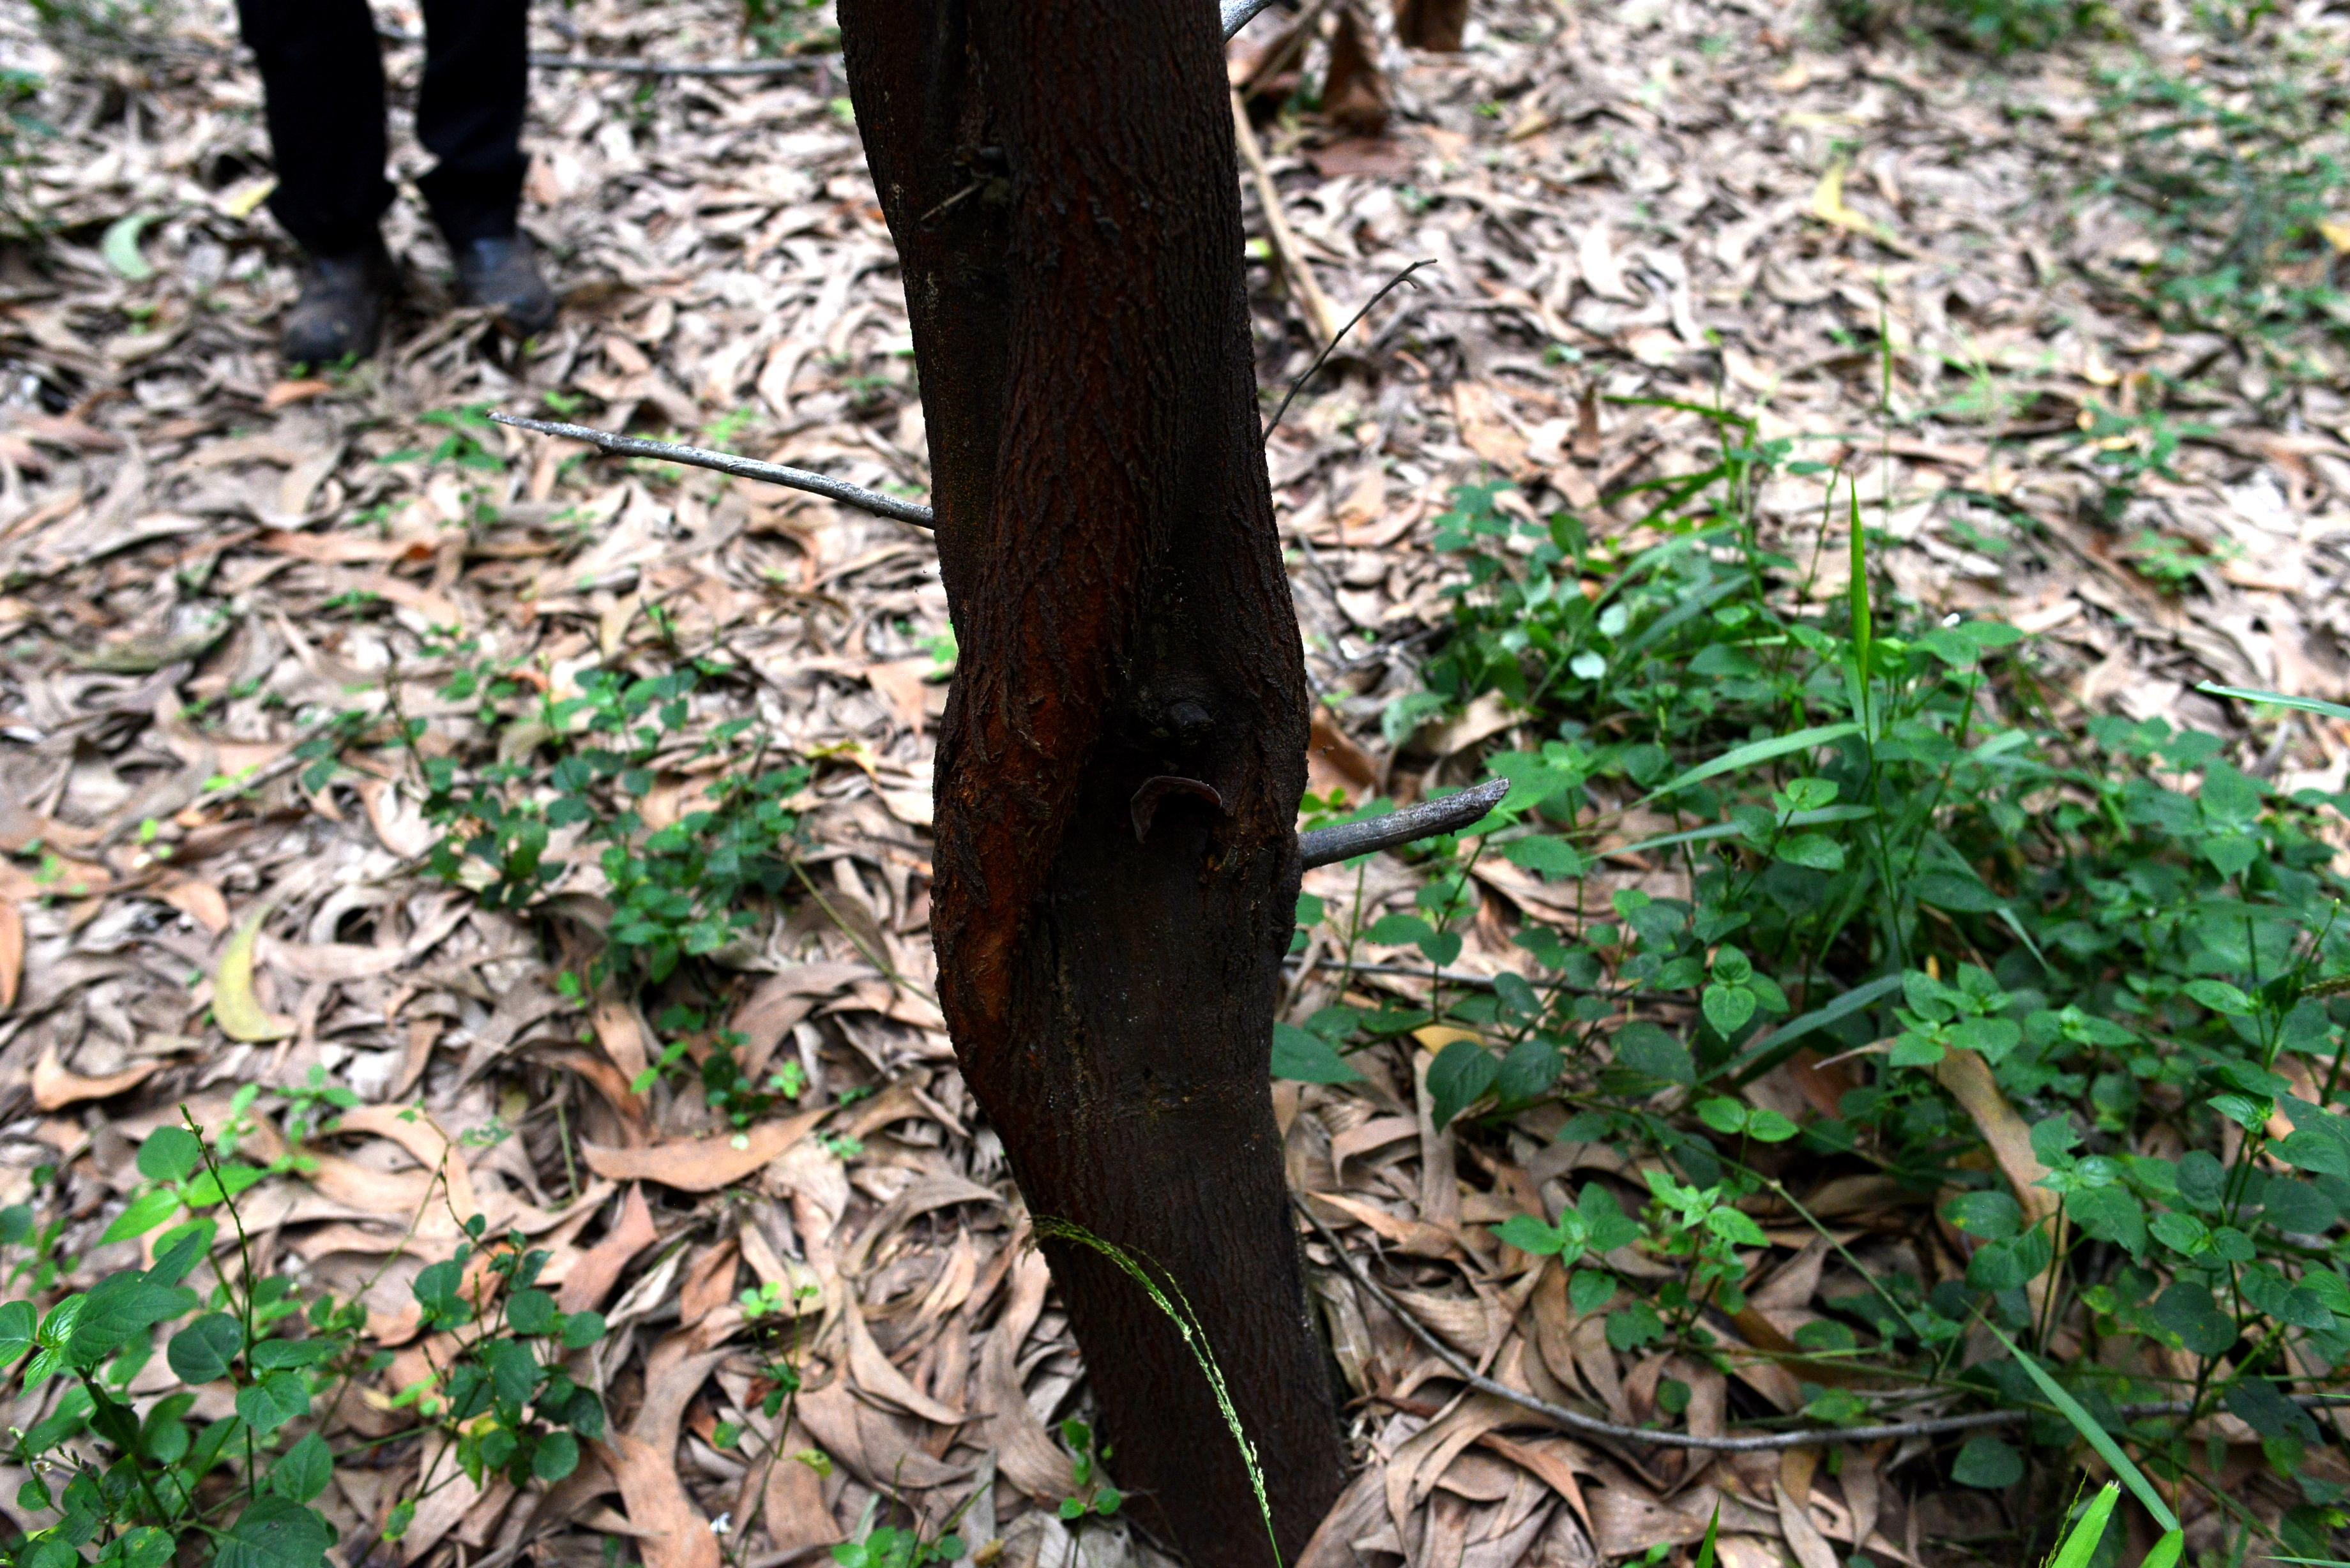Stem Deformation: (807, 10, 1361, 1564)
